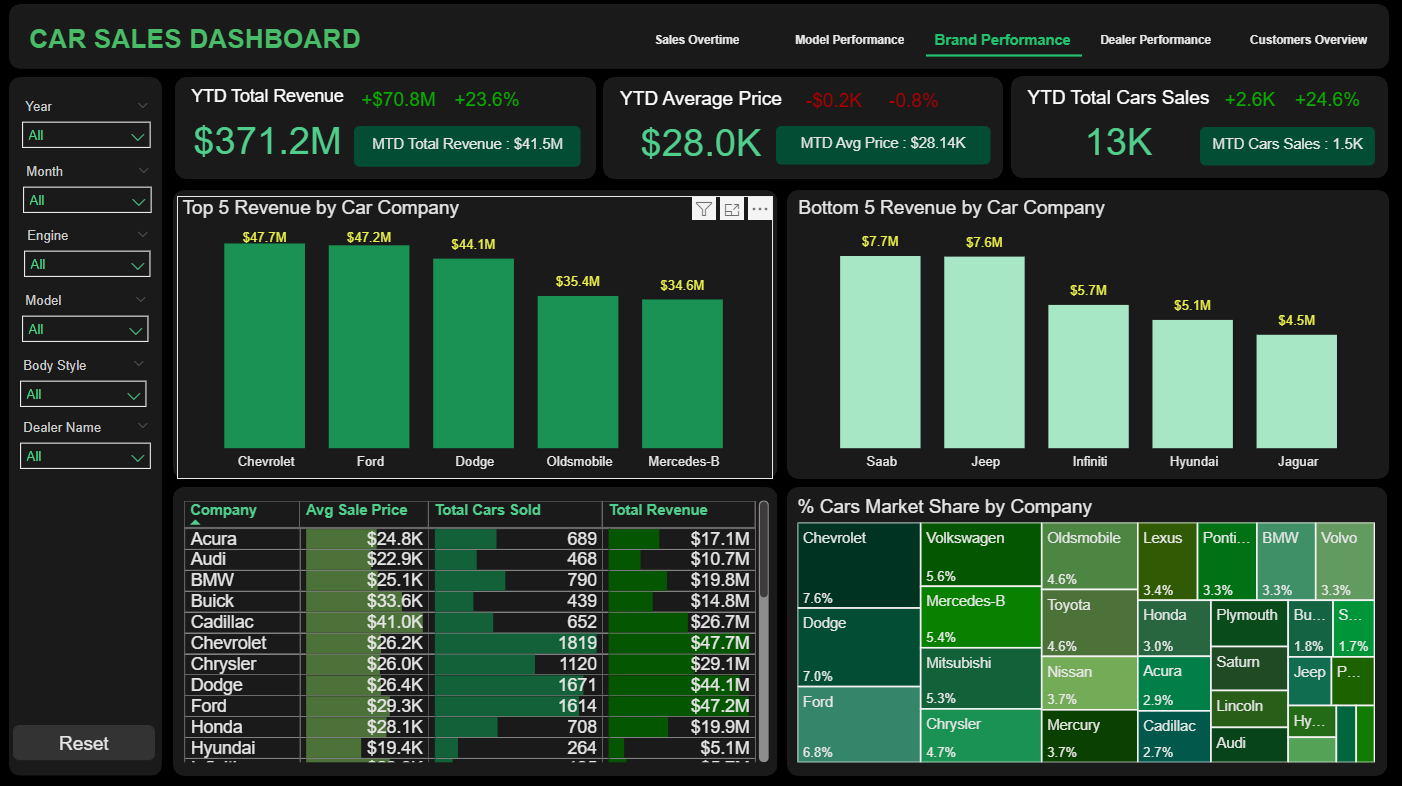

The page's visual inventory and layout, read from the dashboard file:
{"tool":"powerbi","page":{"name":"Brand Performance","canvas":[1280,720],"ordinal":2},"visuals":[{"type":"shape","box":[162.4,445.5,549.5,262.6],"z":0},{"type":"shape","box":[6.8,12.6,146.9,152.7],"z":1000},{"type":"shape","box":[162.4,11.7,1105.9,53.5],"z":2000},{"type":"shape","box":[5.8,175.1,146.9,533],"z":3000},{"type":"shape","box":[1002,73,265,92],"z":4000},{"type":"shape","box":[720.7,71,269.4,92.4],"z":5000},{"type":"shape","box":[162.4,175.1,549.5,262.6],"z":6000},{"type":"slicer","fields":{"Values":["DateTable.Year"]},"box":[14.6,198.4,129.4,58.4],"z":7000},{"type":"tableEx","fields":{"Values":["Car Model.Company","Measrure.Average Sale Price","Measrure.Total Cars Sold","Measrure.Total Revenue"]},"box":[166.4,452.7,542.7,248.2],"z":8000},{"type":"slicer","fields":{"Values":["Car Model.Engine"]},"box":[14.6,349.2,129.4,59.3],"z":9000},{"type":"slicer","fields":{"Values":["Car Model.Model"]},"box":[14.6,423.1,129.4,58.4],"z":10000},{"type":"slicer","fields":{"Values":["Dealer.Dealer_Name"]},"box":[13.6,575.8,130.3,58.4],"z":11000},{"type":"slicer","fields":{"Values":["Car Model.Body Style"]},"box":[14.6,497,129.4,59.3],"z":12000},{"type":"textbox","box":[451.3,19.5,538.8,39.9],"z":13000},{"type":"textbox","box":[14.5,19.1,138.2,29.1],"z":14000},{"type":"actionButton","box":[14.6,648.8,129.4,32.1],"z":15000},{"type":"slicer","fields":{"Values":["DateTable.Month Name"]},"box":[14.6,272.3,129.4,58.4],"z":16000},{"type":"shape","box":[720.7,175.1,547.6,262.6],"z":17000},{"type":"columnChart","title":"Top 5 Revenue by Car Company","fields":{"Y":["Car Sales Datasets.Total Revenue"],"Category":["Car Model.Company"]},"box":[166.4,180.9,541.8,257.3],"z":18000},{"type":"columnChart","title":"Bottom 5 Revenue by Car Company","fields":{"Y":["Car Sales Datasets.Total Revenue"],"Category":["Car Model.Company"]},"box":[726.4,180.9,540,257.3],"z":19000},{"type":"pageNavigator","box":[14.6,48.6,129.4,108],"z":20000},{"type":"shape","box":[720.7,445.5,545.7,262.6],"z":21000},{"type":"treemap","title":"% Cars Market Share by Company","fields":{"Values":["Measrure.Cars Market Share %"],"Group":["Car Model.Company"]},"box":[725.5,452.7,534.5,248.2],"z":22000},{"type":"shape","box":[163.6,71.8,264.5,92.7],"z":23000},{"type":"card","title":"YTD Total Revenue","fields":{"Values":["Measrure.YTD Revenue"]},"box":[164.5,87.3,138.2,78.2],"z":24000},{"type":"card","fields":{"Values":["Sales.Revenue Diff and Icon"]},"box":[302.7,72.7,68.2,46.4],"z":25000},{"type":"card","fields":{"Values":["Measrure.YOY Revenue Growth and Icon"]},"box":[368.2,72.7,60.9,46.4],"z":26000},{"type":"shape","box":[443.3,71.6,265.1,93.1],"z":27000},{"type":"card","fields":{"Values":["Measrure.Avg Sale Price Diff and Icon"]},"box":[589.1,72.7,64.5,46.4],"z":28000},{"type":"card","fields":{"Values":["Measrure.YOY Avg Price Growth and Icon"]},"box":[653.6,72.7,50.9,46.4],"z":29000},{"type":"card","title":" YTD Average Price","fields":{"Values":["Measrure.YTD Avg Sale Price"]},"box":[444.5,87.3,144.5,78.2],"z":30000},{"type":"card","title":"YTD Total Cars Sales","fields":{"Values":["Measrure.YTD Total Cars Sold"]},"box":[726.4,87.3,153.6,78.2],"z":31000},{"type":"card","fields":{"Values":["Measrure.Total Cars Sold Diff and Icon"]},"box":[880,72.7,49.1,46.4],"z":32000},{"type":"card","fields":{"Values":["Measure.YOY Total Cars Sold Growth and Icon"]},"box":[929.1,72.7,61.8,46.4],"z":33000},{"type":"card","title":"YTD Total Customers","fields":{"Values":["Measure.YTD Total Customers"]},"box":[1002.7,87.3,153.6,78.2],"z":34000},{"type":"card","fields":{"Values":["Measure.Total Customers Diff and Icon"]},"box":[1156.4,72.7,51.8,46.4],"z":35000},{"type":"card","fields":{"Values":["Measure.YOY Total Customers Growth and Icon"]},"box":[1205.5,72.7,61.8,46.4],"z":36000},{"type":"lineChart","fields":{"Category":["DateTable.Month Number"],"Y":["Measure.Total Revenue"]},"box":[296.4,86,163.9,78.8],"z":40000},{"type":"lineChart","fields":{"Category":["DateTable.Month Number"],"Y":["Measure.Average Sale Price"]},"box":[580.3,99.4,160.3,65.4],"z":40001},{"type":"lineChart","fields":{"Category":["DateTable.Month Number"],"Y":["Measure.Total Cars Sold"]},"box":[873.1,96.7,137,68.1],"z":40002},{"type":"lineChart","fields":{"Category":["DateTable.Month Number"],"Y":["Customer.Total Customers"]},"box":[1151.6,96.7,128.1,68.1],"z":40003}]}

Visuals, with their boxes in screenshot pixels (x1, y1, x2, y2), scaled from the page's 1280x720 canvas onto the 1402x786 screenshot:
shape: 178,486,780,773
shape: 7,14,168,180
shape: 178,13,1389,71
shape: 6,191,167,773
shape: 1098,80,1388,180
shape: 789,78,1084,178
shape: 178,191,780,478
slicer - DateTable.Year: 16,217,158,280
tableEx - Car Model.Company x Measrure.Average Sale Price: 182,494,777,765
slicer - Car Model.Engine: 16,381,158,446
slicer - Car Model.Model: 16,462,158,526
slicer - Dealer.Dealer_Name: 15,629,158,692
slicer - Car Model.Body Style: 16,543,158,607
textbox: 494,21,1084,65
textbox: 16,21,167,53
actionButton: 16,708,158,743
slicer - DateTable.Month Name: 16,297,158,361
shape: 789,191,1389,478
"Top 5 Revenue by Car Company" columnChart: 182,197,776,478
"Bottom 5 Revenue by Car Company" columnChart: 796,197,1387,478
pageNavigator: 16,53,158,171
shape: 789,486,1387,773
"% Cars Market Share by Company" treemap: 795,494,1380,765
shape: 179,78,469,180
"YTD Total Revenue" card: 180,95,332,181
card - Sales.Revenue Diff and Icon: 332,79,406,130
card - Measrure.YOY Revenue Growth and Icon: 403,79,470,130
shape: 486,78,776,180
card - Measrure.Avg Sale Price Diff and Icon: 645,79,716,130
card - Measrure.YOY Avg Price Growth and Icon: 716,79,772,130
" YTD Average Price" card: 487,95,645,181
"YTD Total Cars Sales" card: 796,95,964,181
card - Measrure.Total Cars Sold Diff and Icon: 964,79,1018,130
card - Measure.YOY Total Cars Sold Growth and Icon: 1018,79,1085,130
"YTD Total Customers" card: 1098,95,1267,181
card - Measure.Total Customers Diff and Icon: 1267,79,1323,130
card - Measure.YOY Total Customers Growth and Icon: 1320,79,1388,130
lineChart - DateTable.Month Number x Measure.Total Revenue: 325,94,504,180
lineChart - DateTable.Month Number x Measure.Average Sale Price: 636,109,811,180
lineChart - DateTable.Month Number x Measure.Total Cars Sold: 956,106,1106,180
lineChart - DateTable.Month Number x Customer.Total Customers: 1261,106,1401,180
